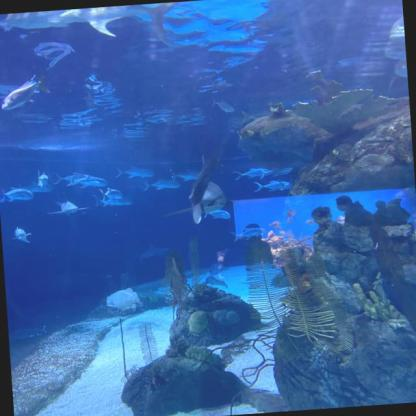fish: (4, 1, 189, 57), (0, 70, 51, 111), (106, 288, 142, 312), (233, 166, 271, 182), (67, 174, 107, 189), (0, 185, 33, 203), (115, 164, 154, 179), (254, 178, 293, 193), (230, 226, 267, 241), (143, 178, 181, 191), (94, 194, 131, 207), (53, 172, 90, 184), (258, 166, 294, 178), (10, 225, 31, 244), (204, 207, 232, 221), (212, 96, 234, 113), (172, 169, 202, 181), (100, 187, 122, 200), (36, 170, 49, 188), (283, 208, 296, 219), (267, 221, 280, 226), (306, 219, 315, 224), (287, 217, 293, 223), (280, 230, 286, 235), (275, 225, 281, 229)
shark: (168, 157, 238, 225), (47, 190, 88, 216), (132, 242, 170, 262), (204, 274, 228, 290)
stingray: (8, 324, 52, 344)
